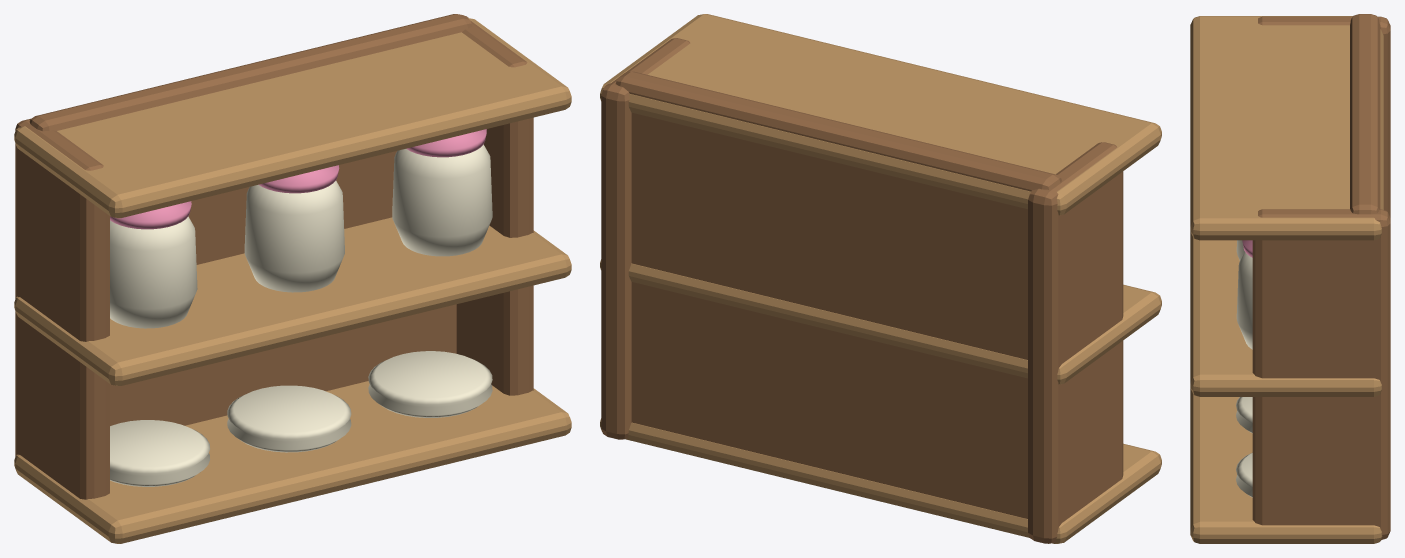
File: cottage-crockery-rack.glb
3 renders of one model, left to right at view 1: azimuth 30°, elevation 25°; view 2: azimuth 150°, elevation 25°; view 3: azimuth 270°, elevation 25°, orthographic. The views are drawn at different scales.
Parts seen in each view (by area): view 1: shelf.002, shelf.001, backboard, shelf, side rail, side rail.001, storage jar.002, storage jar.001, storage jar, plate stack.001, plate stack.002, plate stack (+3 smaller); view 2: backboard, shelf.002, side rail, side rail.001, shelf, shelf.001; view 3: side rail.001, shelf.002, shelf.001, shelf, backboard, side rail, storage jar.002, plate stack.002, plate stack.001.
Boxes of the visible parts, x1=… form: shelf.002: x1=14, y1=18, x2=571, y2=218; shelf.001: x1=14, y1=217, x2=571, y2=385; backboard: x1=29, y1=14, x2=472, y2=425; shelf: x1=14, y1=381, x2=571, y2=543; side rail: x1=15, y1=118, x2=109, y2=499; side rail.001: x1=456, y1=15, x2=533, y2=395; storage jar.002: x1=392, y1=144, x2=492, y2=256; storage jar.001: x1=244, y1=181, x2=344, y2=292; storage jar: x1=110, y1=216, x2=197, y2=328; plate stack.001: x1=227, y1=385, x2=351, y2=452; plate stack.002: x1=368, y1=351, x2=492, y2=417; plate stack: x1=110, y1=420, x2=210, y2=486; backboard: x1=615, y1=71, x2=1061, y2=518; shelf.002: x1=600, y1=14, x2=1161, y2=215; side rail: x1=1028, y1=142, x2=1123, y2=543; side rail.001: x1=601, y1=38, x2=690, y2=439; shelf: x1=600, y1=418, x2=1161, y2=543; shelf.001: x1=600, y1=259, x2=1161, y2=384; side rail.001: x1=1252, y1=209, x2=1390, y2=539; shelf.002: x1=1190, y1=16, x2=1383, y2=240; shelf.001: x1=1190, y1=232, x2=1381, y2=396; shelf: x1=1190, y1=388, x2=1382, y2=543; backboard: x1=1350, y1=14, x2=1380, y2=214; side rail: x1=1258, y1=16, x2=1390, y2=217; storage jar.002: x1=1236, y1=252, x2=1252, y2=349; plate stack.002: x1=1236, y1=452, x2=1252, y2=497; plate stack.001: x1=1236, y1=397, x2=1252, y2=433.
Bounding box in the file's own units: 0.72 × 0.5325 × 0.29.
